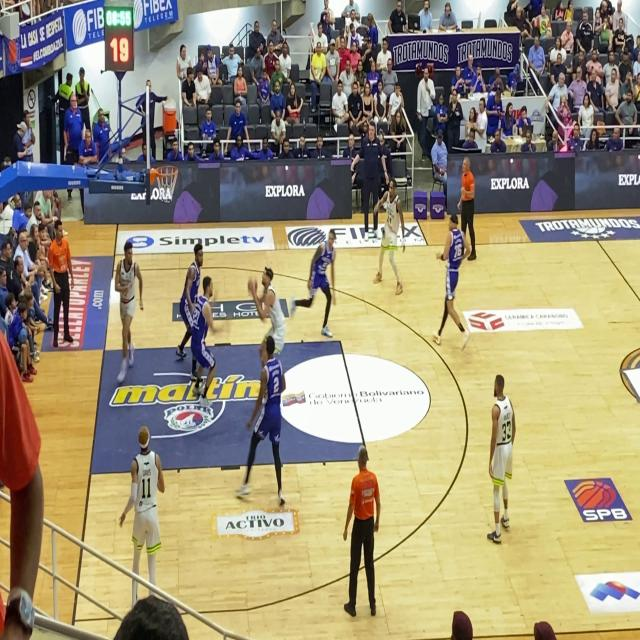Ball: (247, 275, 258, 296)
referee: (334, 439, 386, 623), (42, 197, 78, 365), (458, 152, 484, 274)
team1: (478, 369, 524, 556), (121, 424, 169, 595), (111, 230, 147, 400), (373, 169, 412, 307), (245, 246, 292, 343)
team2: (238, 329, 293, 512), (294, 220, 346, 352), (432, 200, 472, 369), (186, 273, 223, 416), (178, 236, 208, 324)
ubasket: (150, 154, 180, 202)
